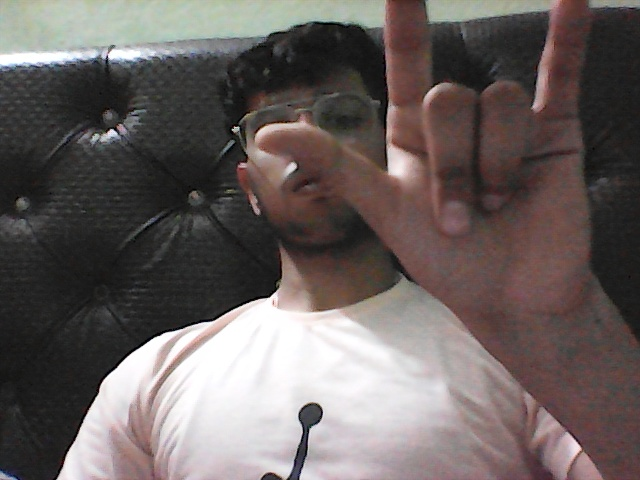iloveyou: (246, 8, 631, 340)
